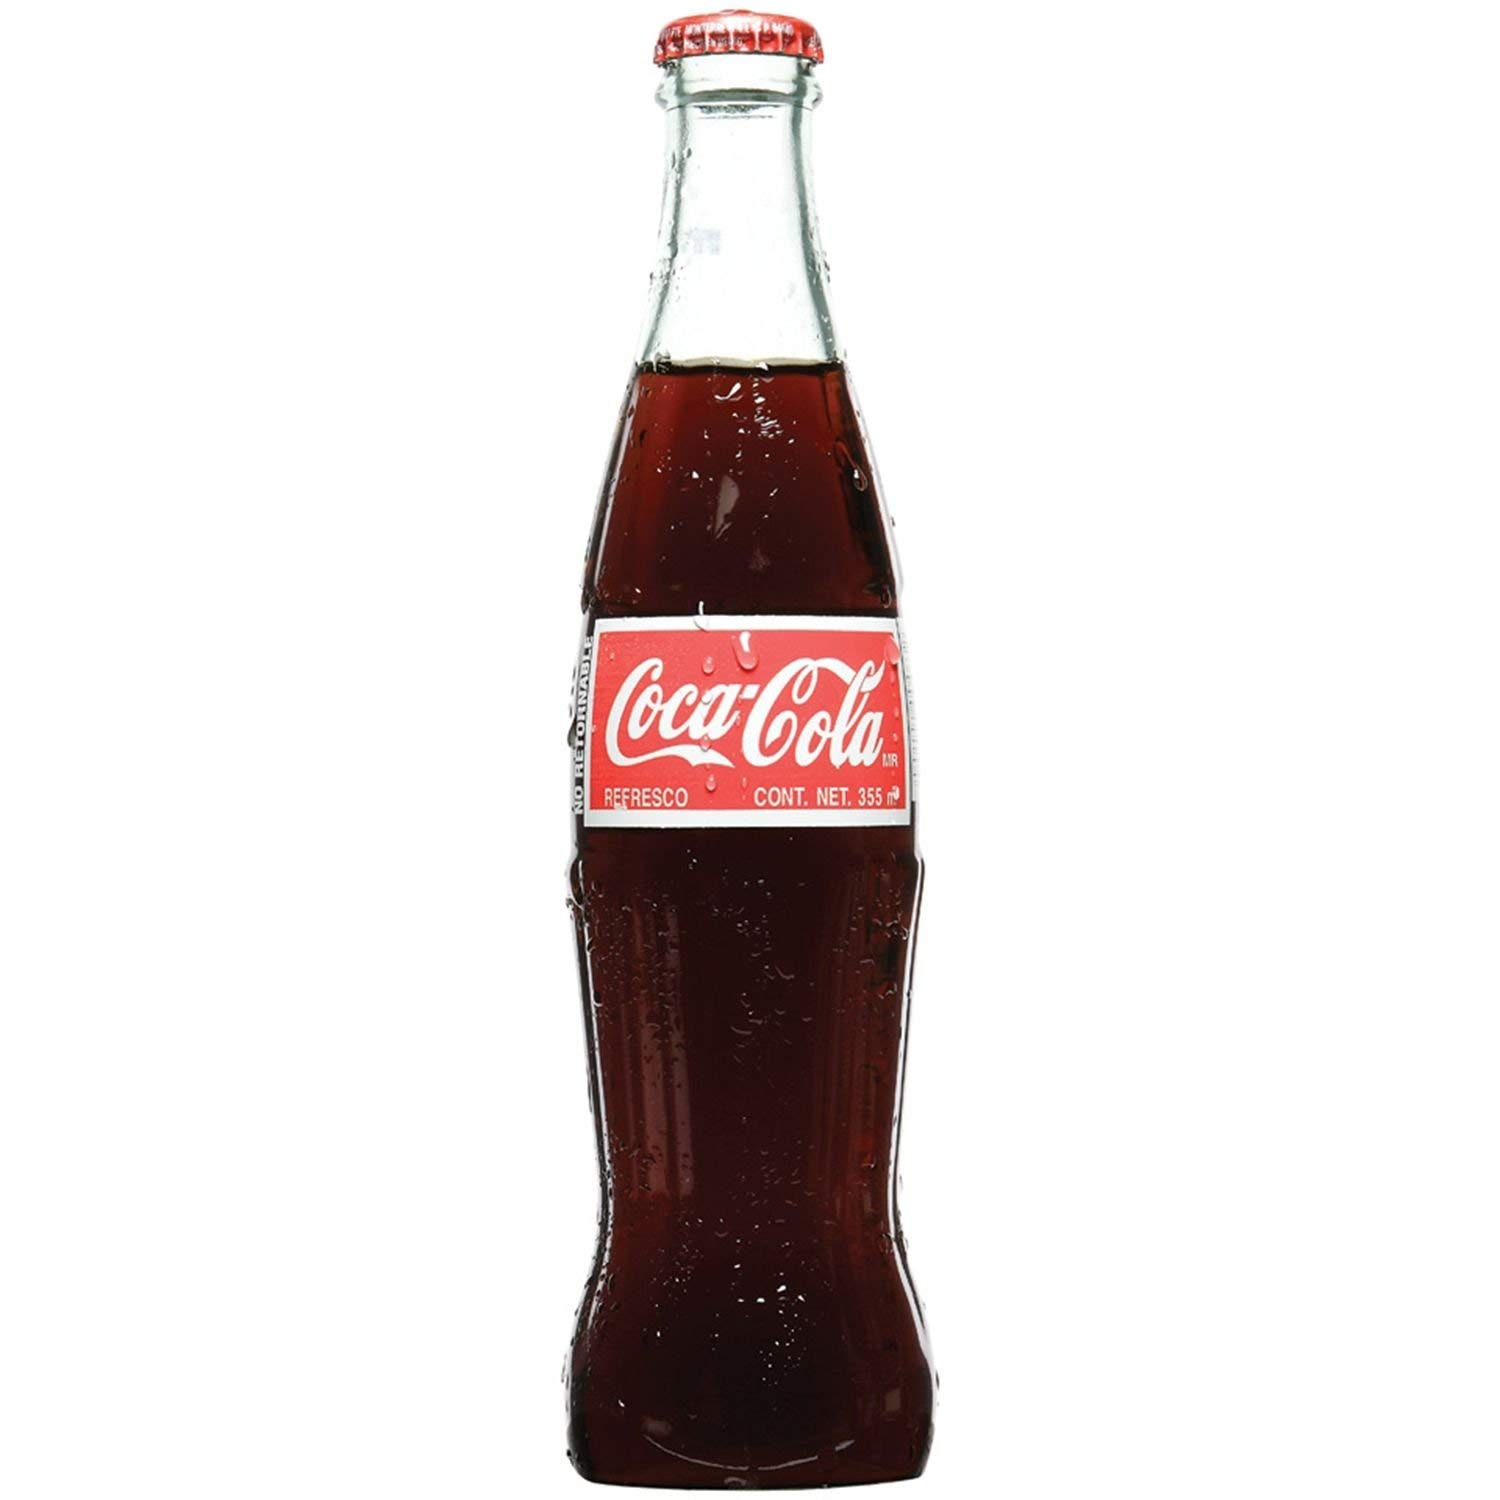Rec_Glass: (534, 3, 938, 1488)
